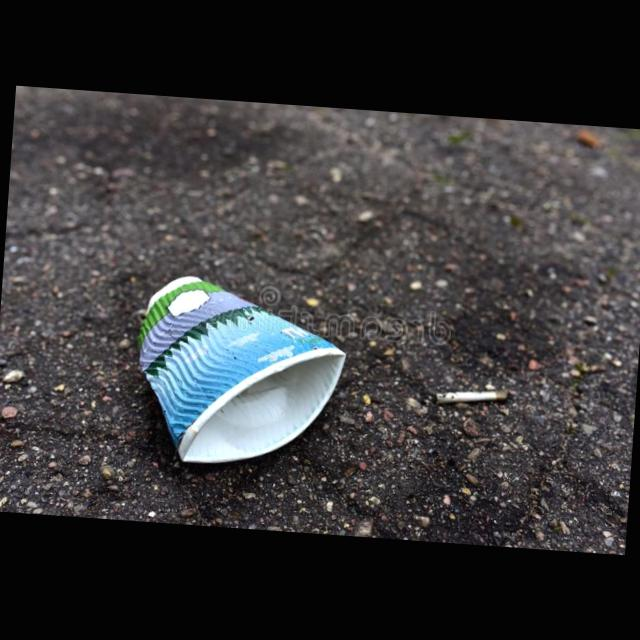trash: (128, 273, 352, 477)
